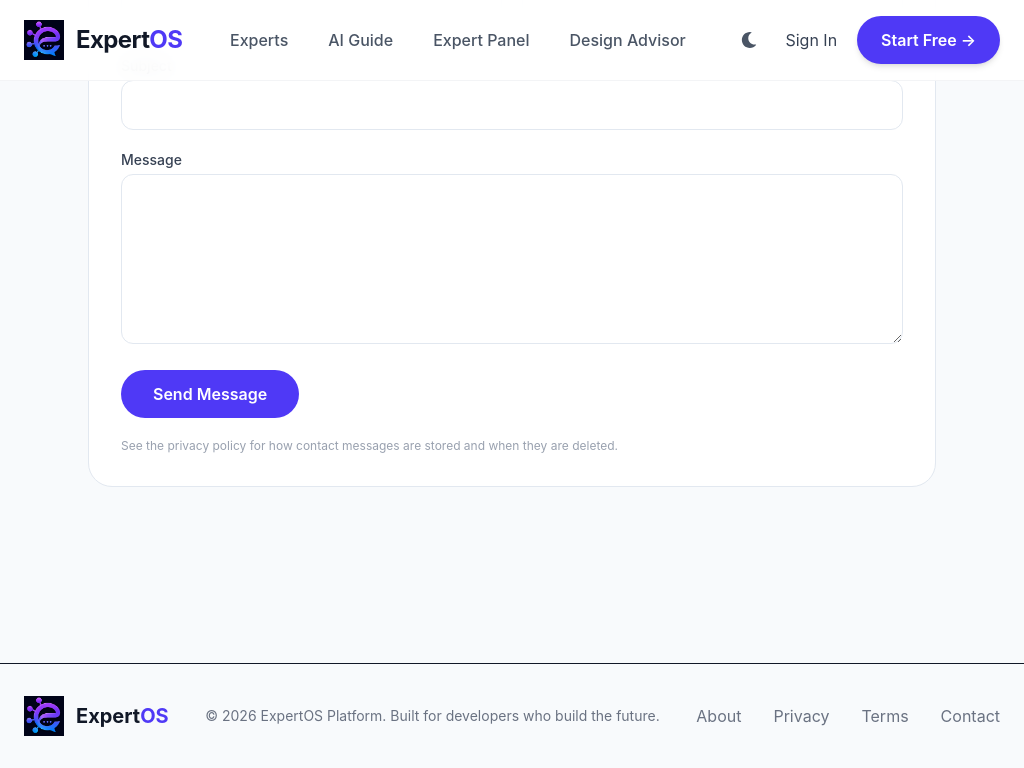
Scenario: Contact form › validates fields before sending
(page scrolled)
Click the button "Send Message". click: (210, 394)
box: [121,370,299,418]
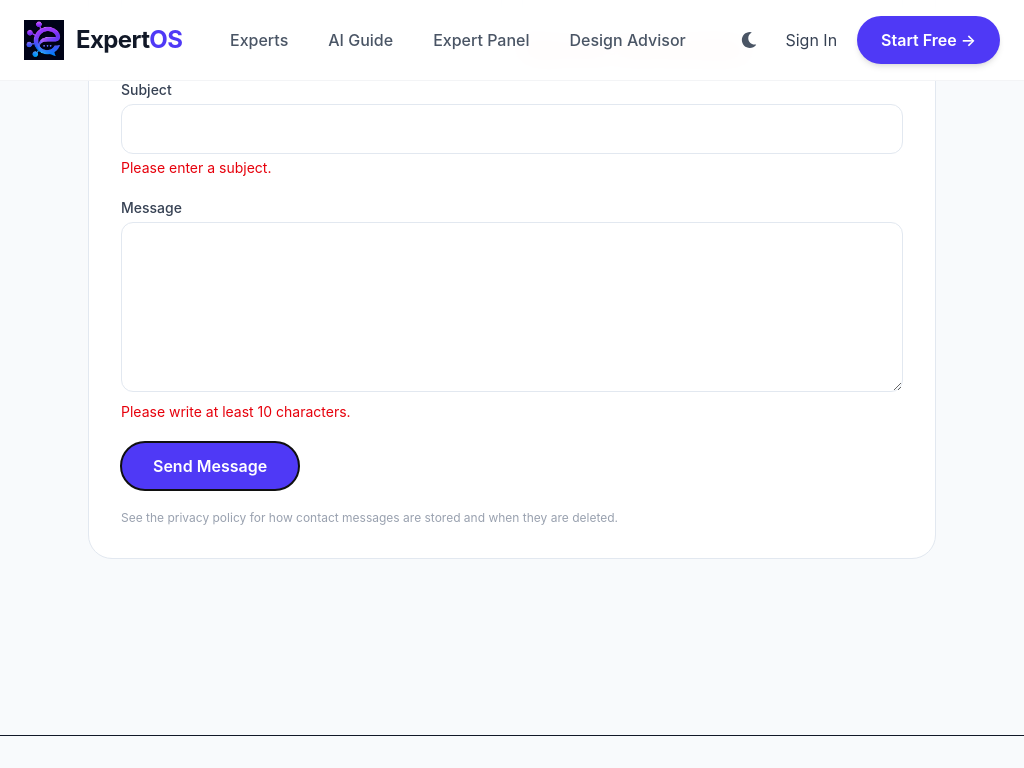
Check: the text "Please enter a valid email address." is shown, box [522,41,751,58]
Check: the text "Please enter a subject." is shown, box [121,159,271,176]
